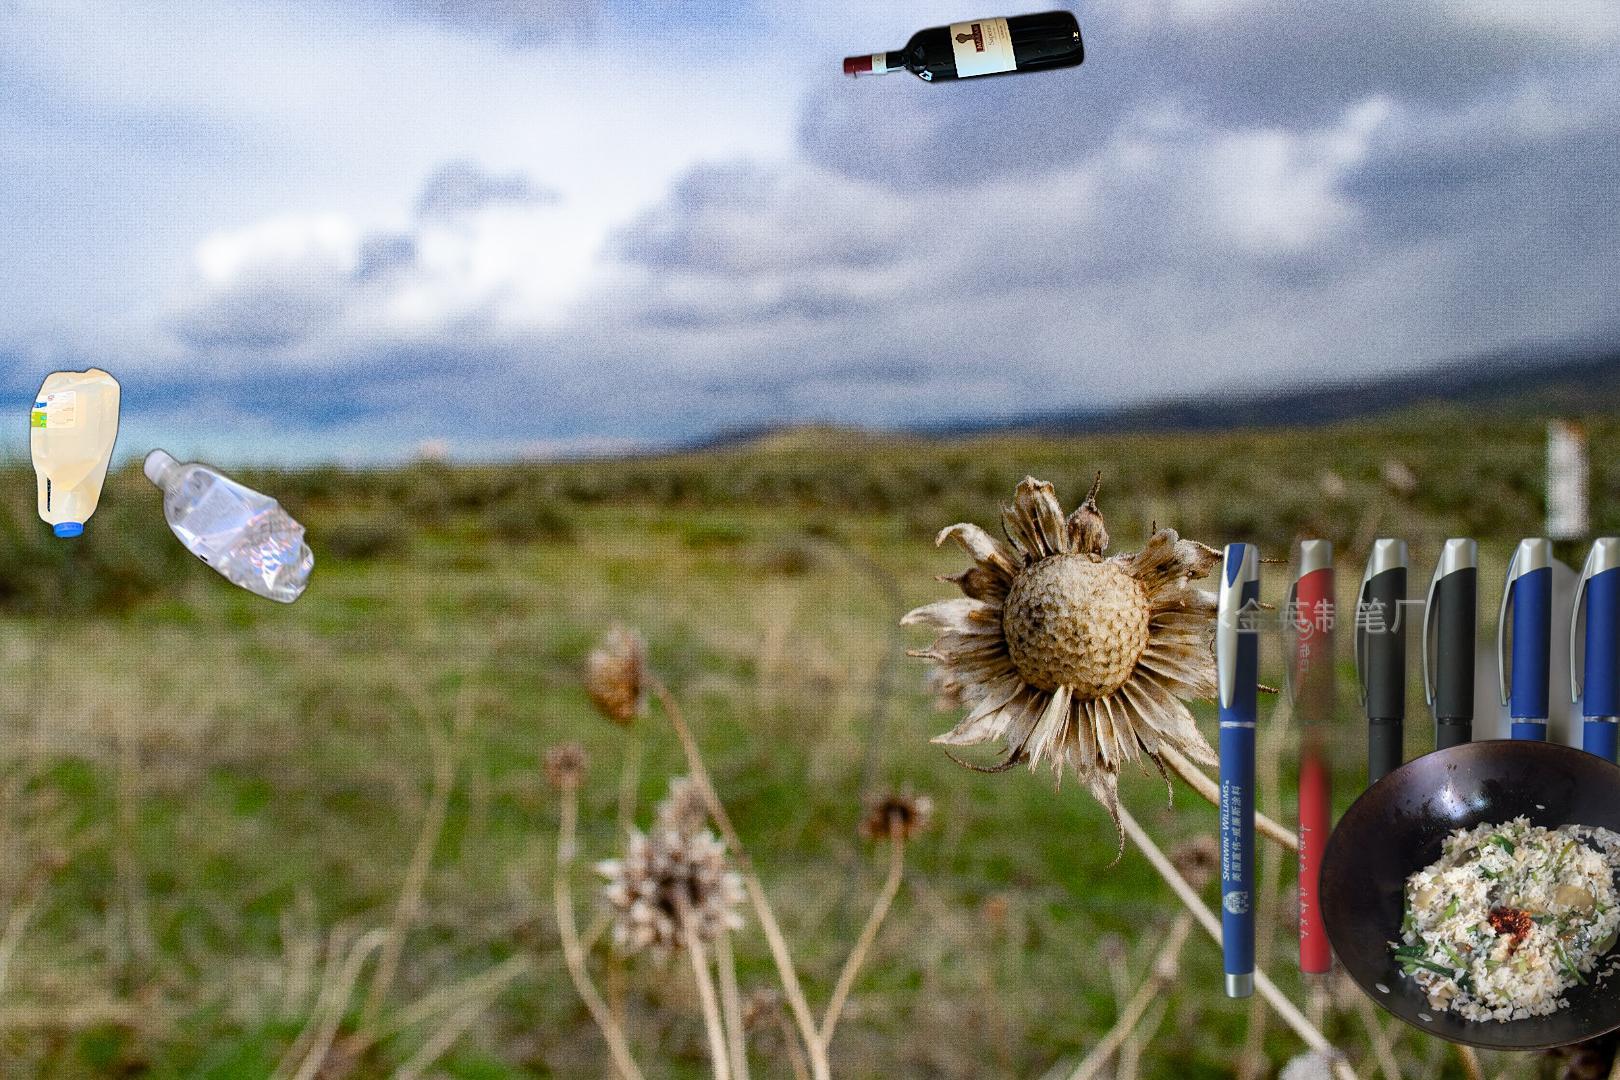biological: (1314, 735, 1620, 1053)
glass: (839, 4, 1088, 90)
penholder: (1208, 509, 1620, 1017)
plastic-bottles: (139, 375, 585, 1053), (25, 362, 125, 544)
